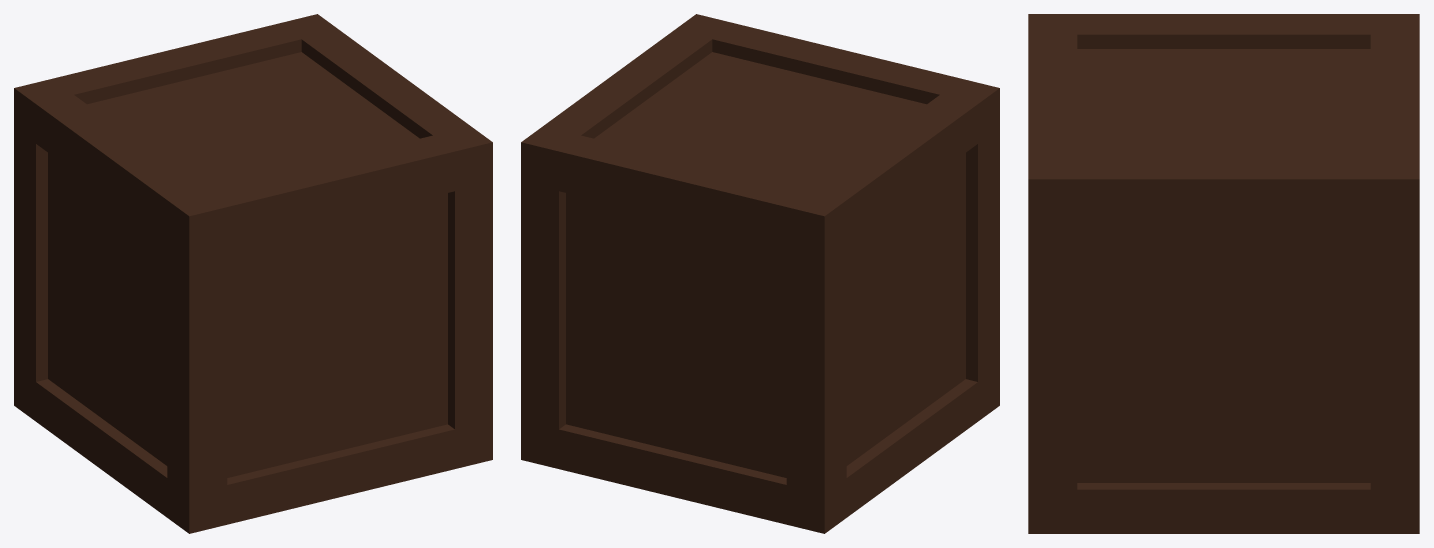
The model's file is wood_box.fbx.
The picture shows the model from 3 angles, left to right: view 1: azimuth 30°, elevation 25°; view 2: azimuth 150°, elevation 25°; view 3: azimuth 270°, elevation 25°; orthographic projection. The views are drawn at different scales.
Parts seen in each view (by area): view 1: Cube.055; view 2: Cube.055; view 3: Cube.055.
Part boxes in pixels (x1,y1,x2,y2): Cube.055: (14, 14, 492, 533); Cube.055: (521, 14, 999, 533); Cube.055: (1028, 14, 1419, 533).
Bounding box in the file's own units: 417 × 417 × 417.
